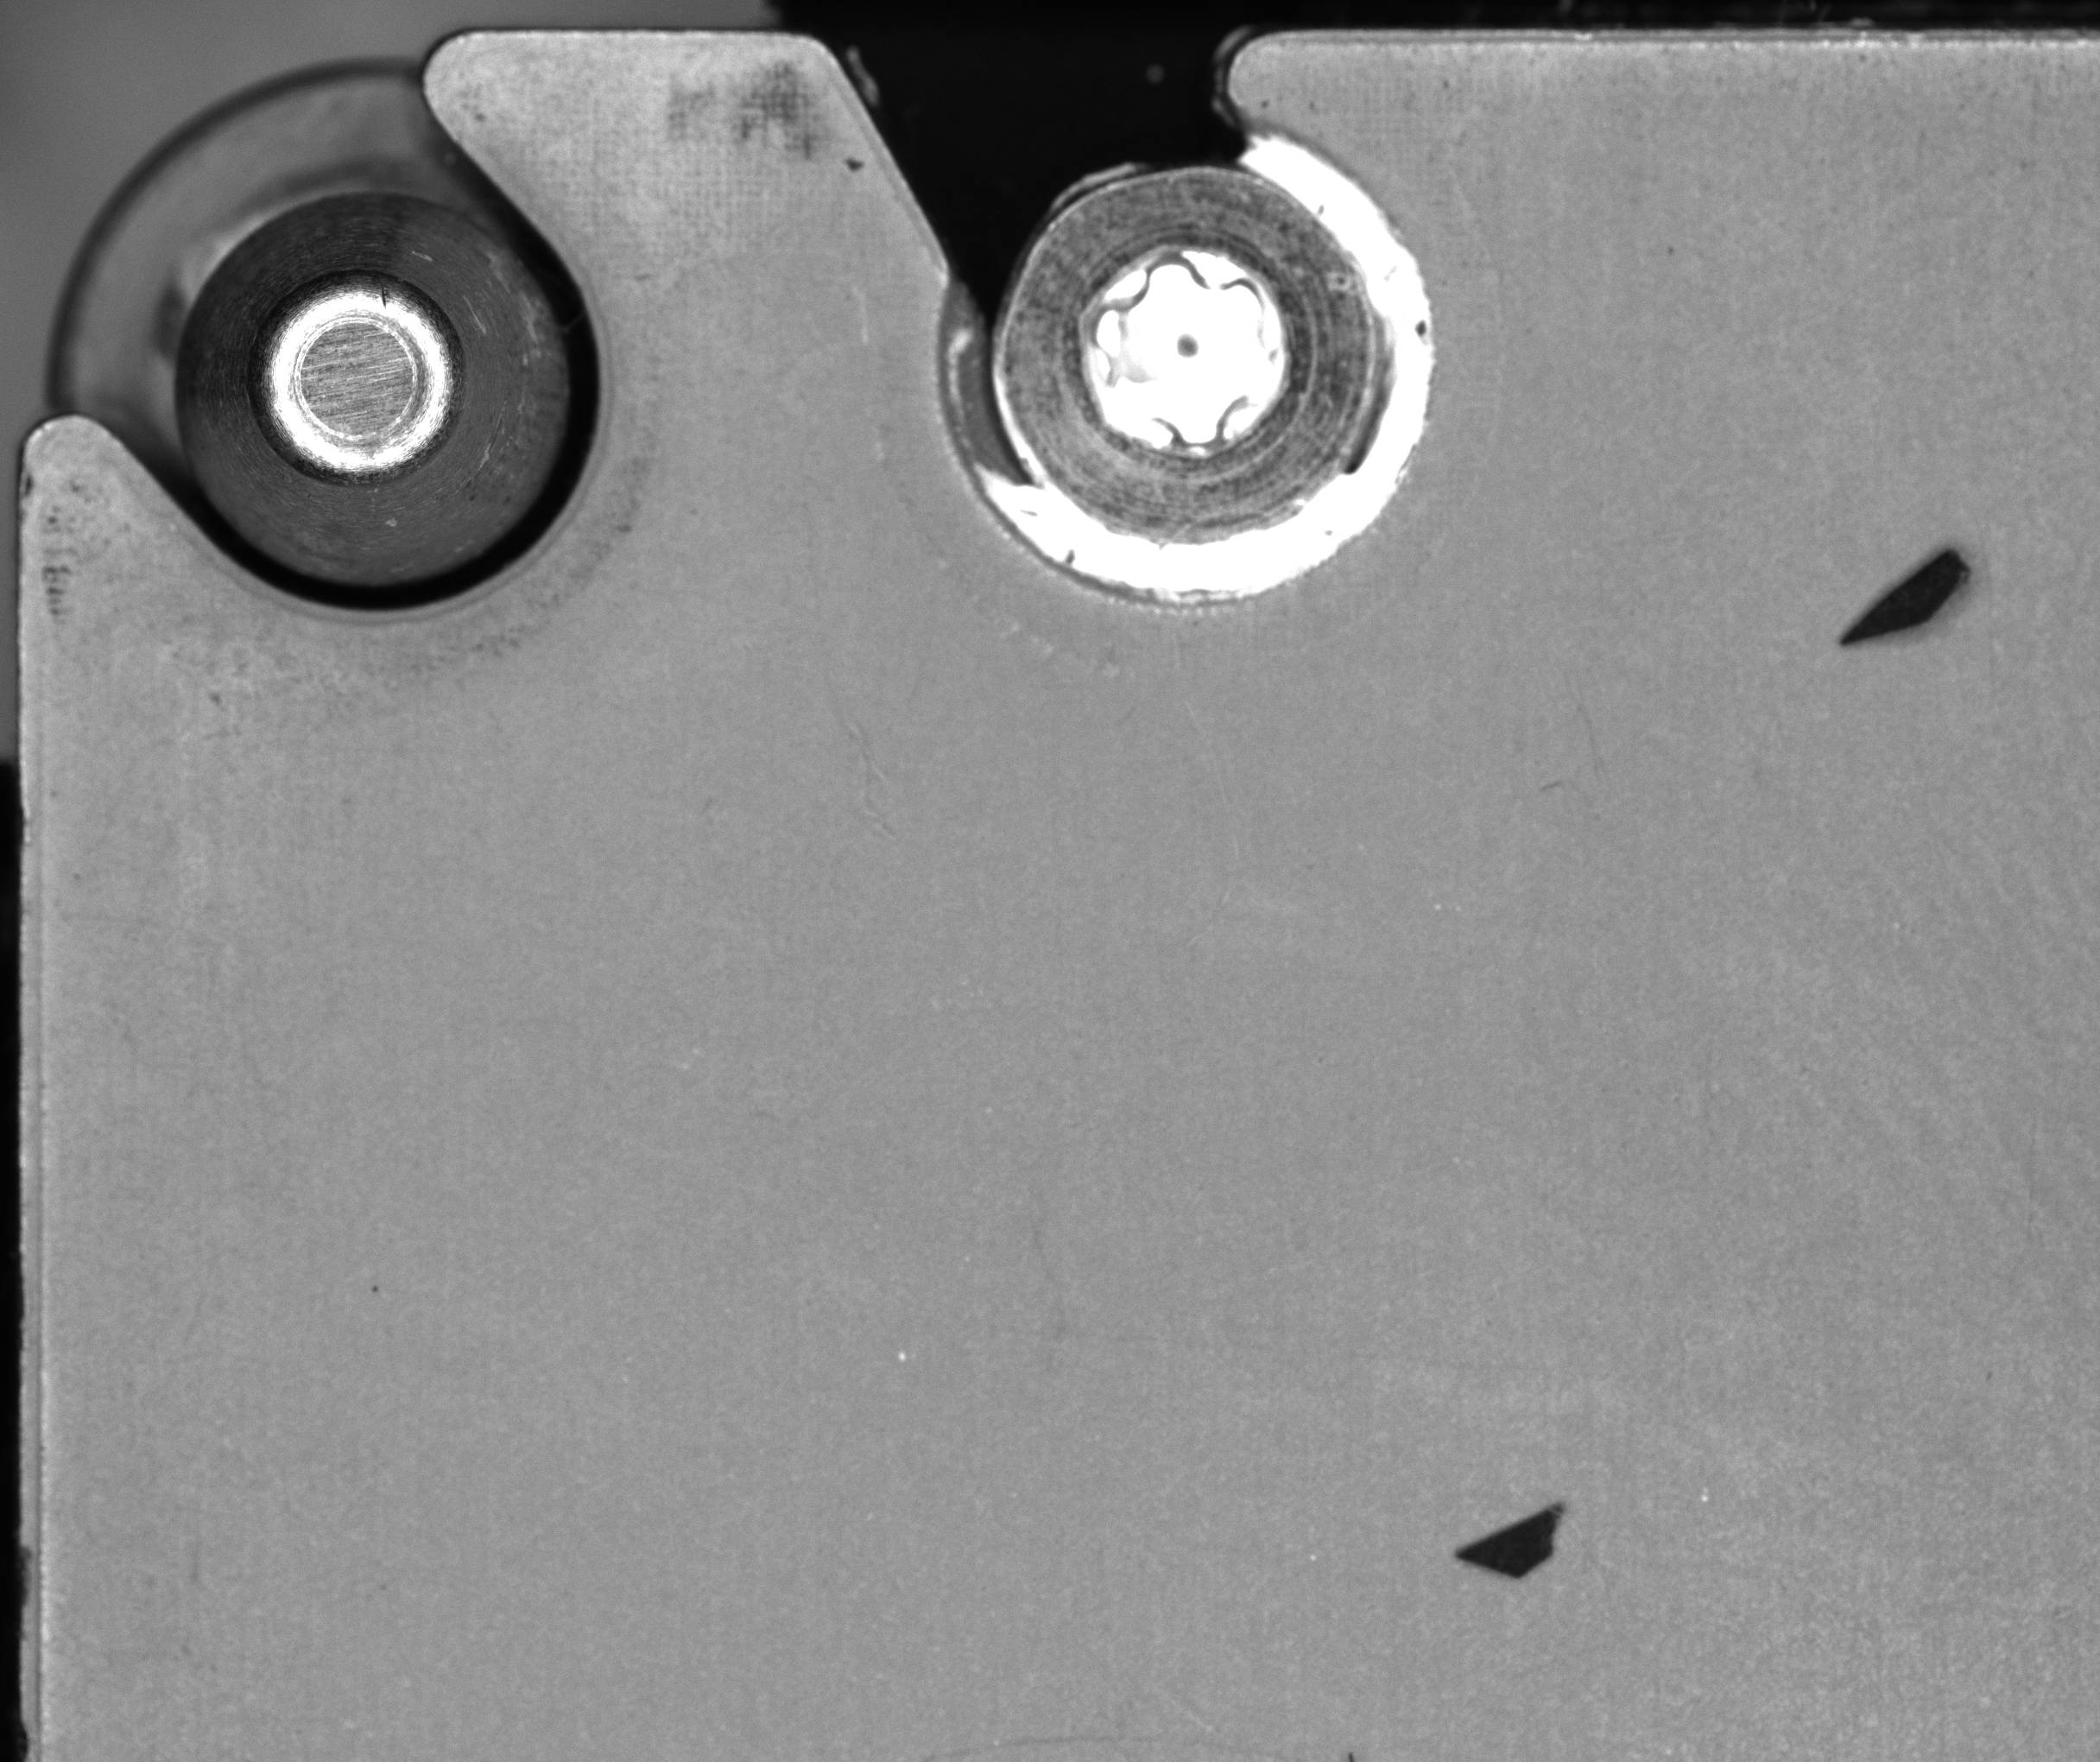foreign: (1829, 540, 1976, 650), (1448, 1496, 1571, 1584)
